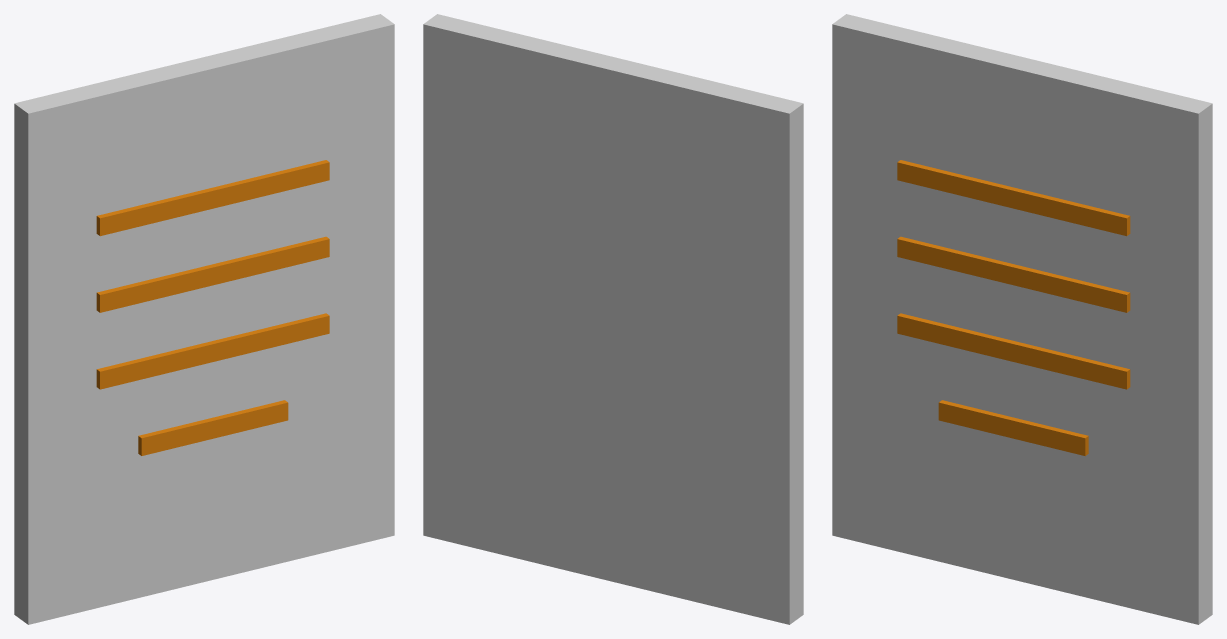
The model's file is R1_incident_response_plan.glb.
The picture shows the model from 3 angles, left to right: view 1: azimuth 30°, elevation 25°; view 2: azimuth 150°, elevation 25°; view 3: azimuth 330°, elevation 25°; orthographic projection.
Visible parts, largest first — view 1: page_white, text-line_amber; view 2: page_white; view 3: page_white, text-line_amber.
Boxes of the visible parts, x1,y1,x2,y2 form: page_white: (14, 14, 394, 624); text-line_amber: (96, 160, 329, 455); page_white: (423, 14, 803, 624); page_white: (832, 14, 1212, 624); text-line_amber: (897, 160, 1130, 455).
Size of the model in its own units: 0.75 by 1 by 0.062.
